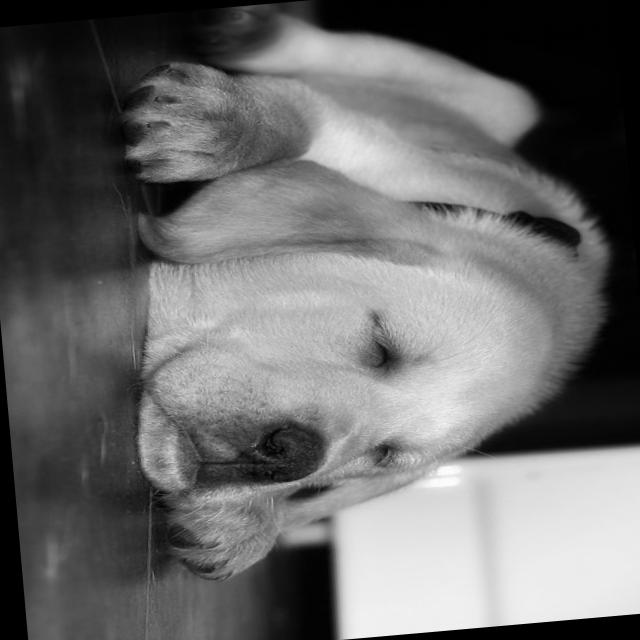laying down: (93, 0, 640, 588)
